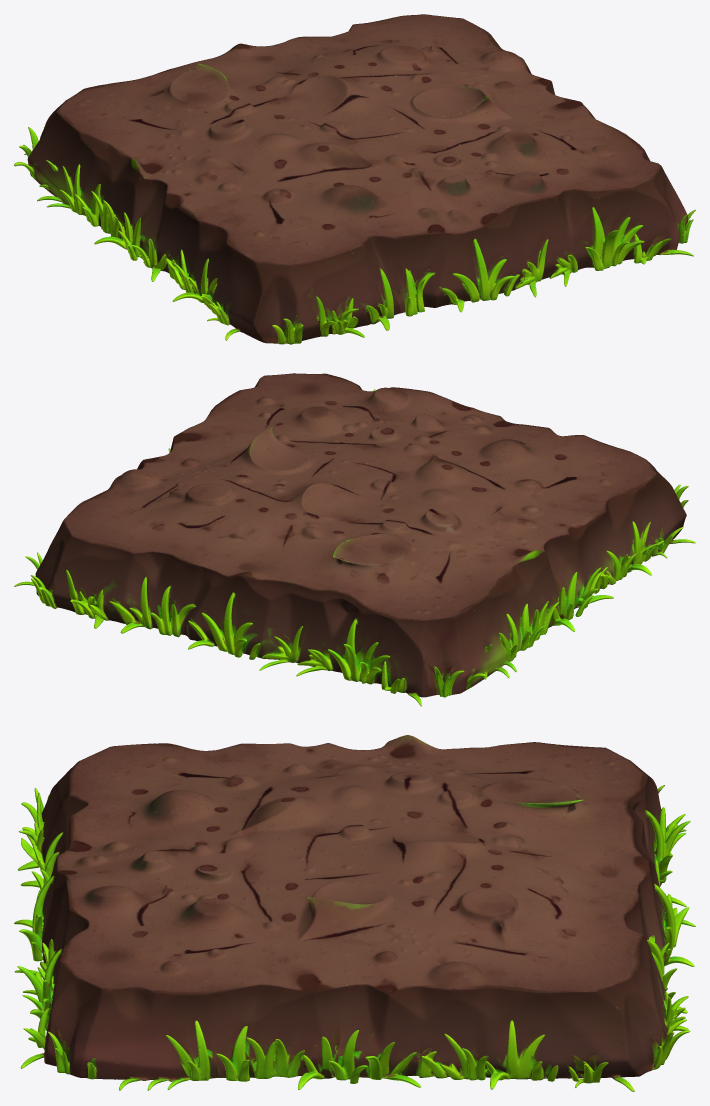
File: garden_plot.glb
3 views of the same model, one above another, from view 1: azimuth 30°, elevation 25°; view 2: azimuth 150°, elevation 25°; view 3: azimuth 270°, elevation 25° (orthographic). The views are drawn at different scales.
Size of the model in its own units: 1.9 by 0.3672 by 1.89.
1 material, 1 textured.
